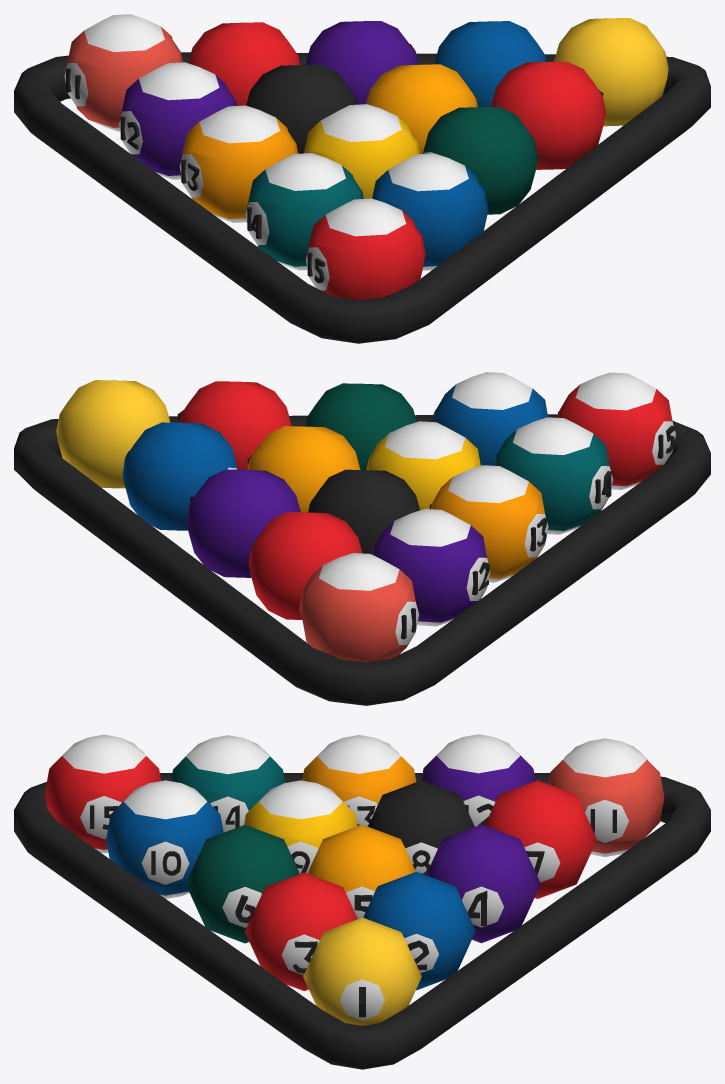
The model's file is Billiard Ball Holder.fbx.
3 renders of one model, top to bottom at view 1: azimuth 30°, elevation 25°; view 2: azimuth 150°, elevation 25°; view 3: azimuth 270°, elevation 25°, orthographic.
Visible parts, largest first — view 1: Billiard Ball Holder, Billiard Ball 15, Billiard Ball 13, Billiard Ball 3, Billiard Ball 14, Billiard Ball 12, Billiard Ball 11, Billiard Ball 10, Billiard Ball 1, Billiard Ball 6, Billiard Ball 9, Billiard Ball 2 (+4 smaller); view 2: Billiard Ball Holder, Billiard Ball 11, Billiard Ball 12, Billiard Ball 14, Billiard Ball 15, Billiard Ball 2, Billiard Ball 13, Billiard Ball 1, Billiard Ball 4, Billiard Ball 7, Billiard Ball 10, Billiard Ball 9 (+4 smaller); view 3: Billiard Ball Holder, Billiard Ball 1, Billiard Ball 10, Billiard Ball 11, Billiard Ball 4, Billiard Ball 15, Billiard Ball 6, Billiard Ball 3, Billiard Ball 7, Billiard Ball 2, Billiard Ball 14, Billiard Ball 12 (+4 smaller).
Part boxes in pixels (x1,y1,x2,y2): Billiard Ball Holder: (14, 52, 710, 343); Billiard Ball 15: (306, 198, 425, 300); Billiard Ball 13: (179, 105, 298, 222); Billiard Ball 3: (491, 61, 605, 169); Billiard Ball 14: (245, 153, 363, 270); Billiard Ball 12: (119, 62, 236, 179); Billiard Ball 11: (64, 14, 182, 131); Billiard Ball 10: (372, 153, 488, 270); Billiard Ball 1: (554, 18, 668, 126); Billiard Ball 6: (422, 106, 537, 214); Billiard Ball 9: (304, 104, 419, 198); Billiard Ball 2: (434, 21, 546, 106); Billiard Ball Holder: (14, 414, 710, 705); Billiard Ball 11: (299, 553, 419, 662); Billiard Ball 12: (371, 509, 490, 626); Billiard Ball 14: (494, 417, 612, 534); Billiard Ball 15: (558, 372, 675, 489); Billiard Ball 2: (122, 422, 237, 530); Billiard Ball 13: (429, 465, 548, 582); Billiard Ball 1: (56, 380, 170, 488); Billiard Ball 4: (186, 469, 300, 577); Billiard Ball 7: (248, 512, 362, 619); Billiard Ball 10: (432, 372, 547, 465); Billiard Ball 9: (366, 421, 480, 509); Billiard Ball Holder: (14, 773, 710, 1069); Billiard Ball 1: (303, 917, 421, 1025); Billiard Ball 10: (106, 780, 223, 898); Billiard Ball 11: (548, 738, 664, 856); Billiard Ball 4: (426, 824, 540, 943); Billiard Ball 15: (45, 734, 161, 853); Billiard Ball 6: (185, 825, 299, 943); Billiard Ball 3: (245, 872, 357, 990); Billiard Ball 7: (485, 780, 596, 898); Billiard Ball 2: (363, 871, 475, 990); Billiard Ball 14: (171, 735, 285, 832); Billiard Ball 12: (421, 734, 535, 826).
Size of the model in its own units: 0.3472 by 0.3806 by 0.0649.
